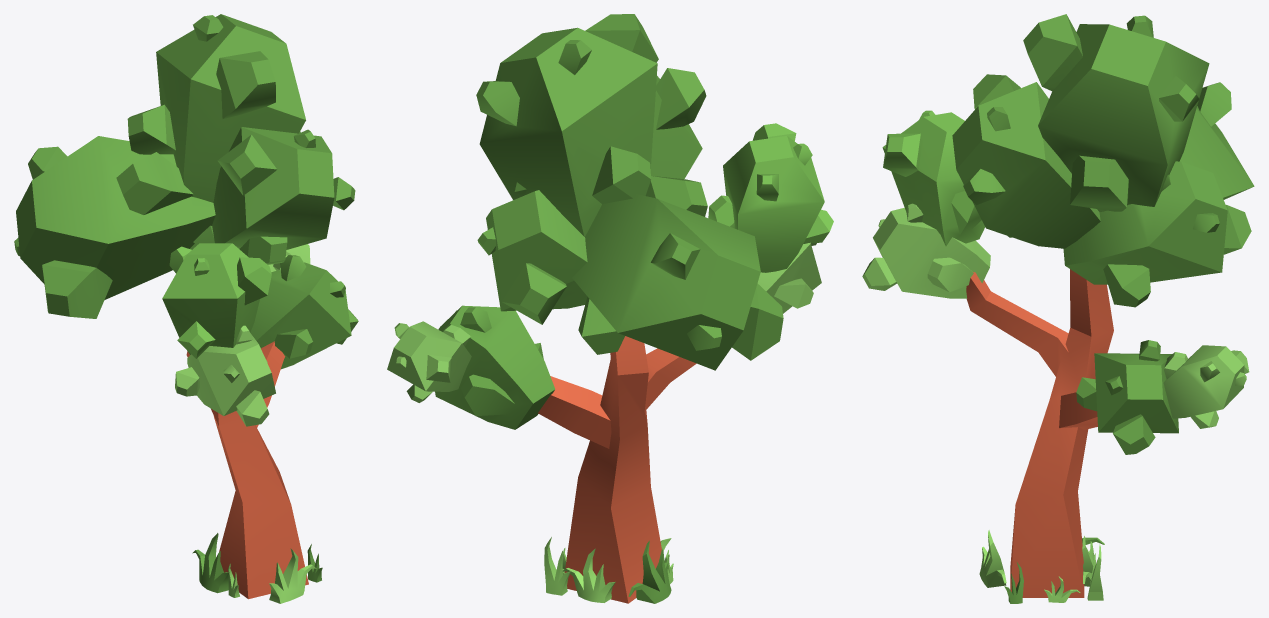
File: tree2.glb
3 views of the same model, side by side, from view 1: azimuth 30°, elevation 25°; view 2: azimuth 150°, elevation 25°; view 3: azimuth 270°, elevation 25° (orthographic). The views are drawn at different scales.
Visible parts, largest first — view 1: BranchesCBranchesuBranchesbBrancheseBranches.Branches0Branc. (×3), Trunk, BranchesCBranchesuBranchesbBrancheseBranches.Branches0Branch, BranchesCBranchesuBranchesbBrancheseBranches.Branches0BrancB, BranchesCBranchesuBranchesbBrancheseBranchesBranch, Plane.003, Plane; view 2: BranchesCBranchesuBranchesbBrancheseBranches.Branches0Branc. (×5), Trunk, BranchesCBranchesuBranchesbBrancheseBranches.Branches0Branch, BranchesCBranchesuBranchesbBrancheseBranches.Branches0BrancB, BranchesCBranchesuBranchesbBrancheseBranchesBranch, Plane, Plane.005, Plane.002; view 3: BranchesCBranchesuBranchesbBrancheseBranches.Branches0Branc. (×5), Trunk, BranchesCBranchesuBranchesbBrancheseBranches.Branches0Branch, BranchesCBranchesuBranchesbBrancheseBranchesBranch, BranchesCBranchesuBranchesbBrancheseBranches.Branches0BrancB, Plane.003, Plane.002.
Boxes of the visible parts, <box> form: BranchesCBranchesuBranchesbBrancheseBranches.Branches0Branc. (×3): <box>14,14,355,318</box>; Trunk: <box>186,341,308,599</box>; BranchesCBranchesuBranchesbBrancheseBranches.Branches0Branch: <box>162,243,271,358</box>; BranchesCBranchesuBranchesbBrancheseBranches.Branches0BrancB: <box>250,255,358,369</box>; BranchesCBranchesuBranchesbBrancheseBranchesBranch: <box>175,325,275,426</box>; Plane.003: <box>269,548,316,603</box>; Plane: <box>192,533,229,593</box>; BranchesCBranchesuBranchesbBrancheseBranches.Branches0Branc. (×5): <box>387,14,783,402</box>; Trunk: <box>538,336,696,603</box>; BranchesCBranchesuBranchesbBrancheseBranches.Branches0Branch: <box>708,123,833,272</box>; BranchesCBranchesuBranchesbBrancheseBranches.Branches0BrancB: <box>435,305,555,429</box>; BranchesCBranchesuBranchesbBrancheseBranchesBranch: <box>757,242,821,313</box>; Plane: <box>628,540,671,603</box>; Plane.005: <box>562,548,615,602</box>; Plane.002: <box>544,537,570,595</box>; BranchesCBranchesuBranchesbBrancheseBranches.Branches0Branc. (×5): <box>952,14,1254,428</box>; Trunk: <box>966,269,1113,597</box>; BranchesCBranchesuBranchesbBrancheseBranches.Branches0Branch: <box>882,110,984,246</box>; BranchesCBranchesuBranchesbBrancheseBranchesBranch: <box>862,203,990,298</box>; BranchesCBranchesuBranchesbBrancheseBranches.Branches0BrancB: <box>1076,340,1178,454</box>; Plane.003: <box>979,530,1006,587</box>; Plane.002: <box>1087,544,1103,600</box>.
Bounding box in the file's own units: 10.59 × 16.73 × 10.6.
